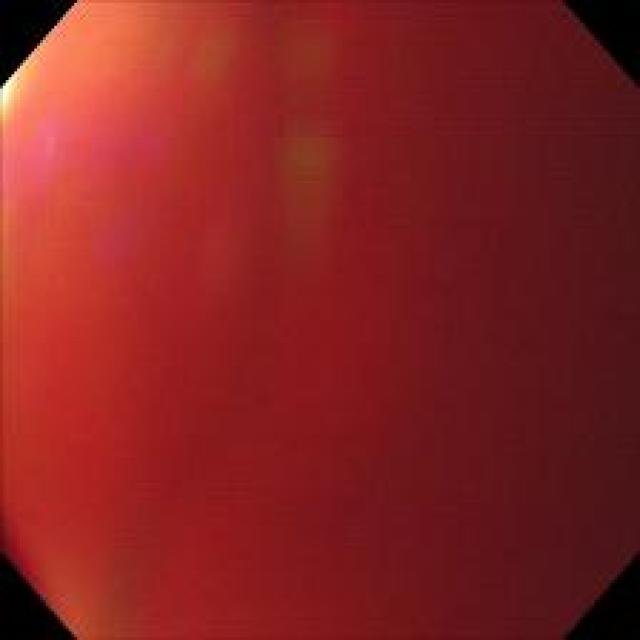color misalignment: (2, 2, 632, 632), (32, 116, 82, 196)
